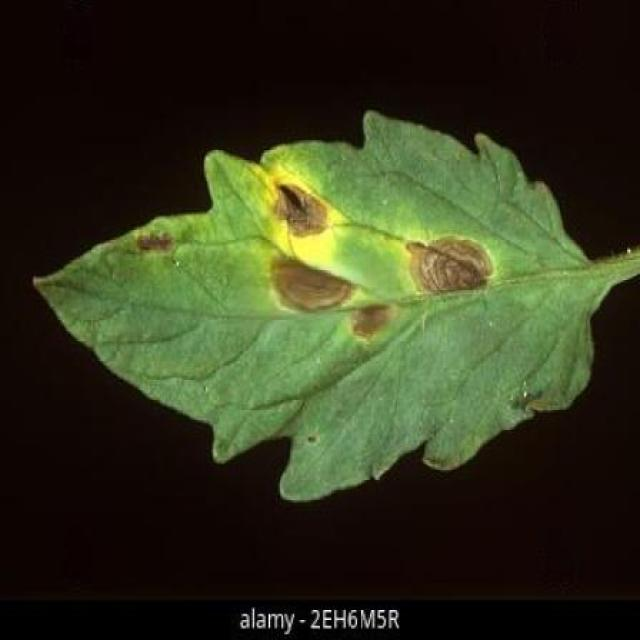Early Blight: (28, 114, 598, 504)
